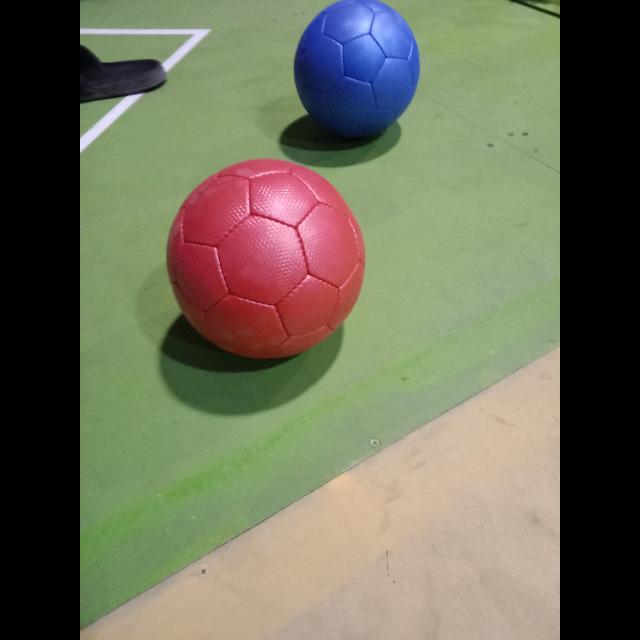B: (294, 0, 420, 142)
R: (167, 160, 365, 360)
